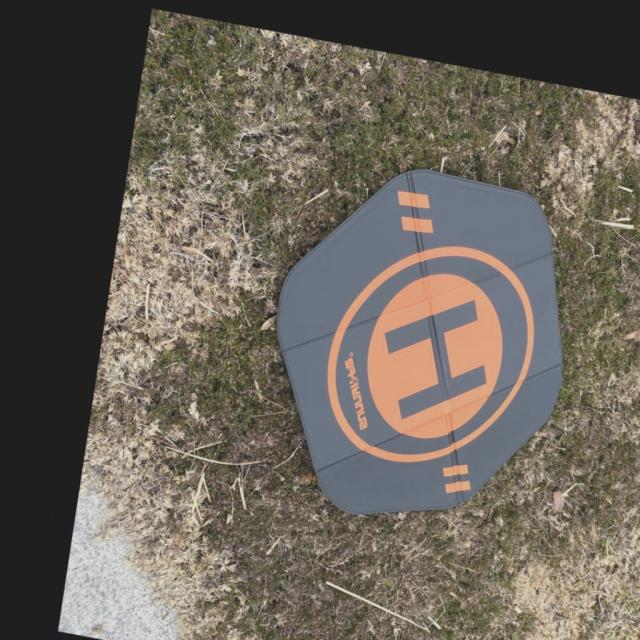helipad: (322, 240, 540, 468)
